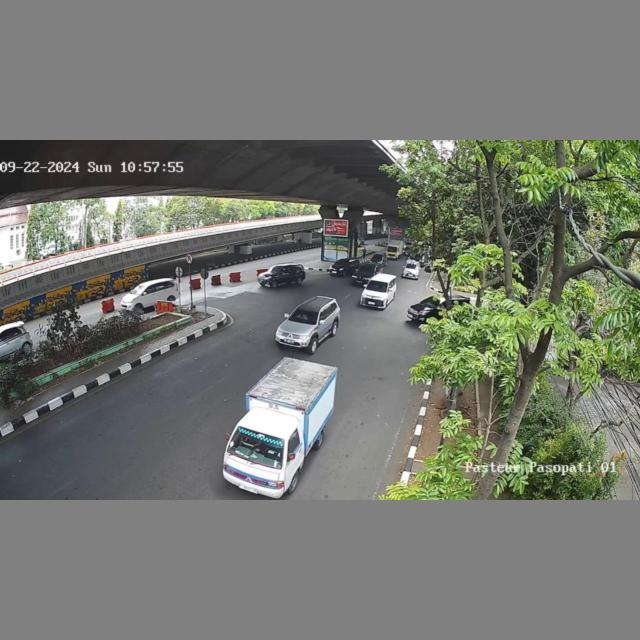windshield: (227, 427, 283, 466), (289, 307, 320, 323), (367, 280, 387, 291)
